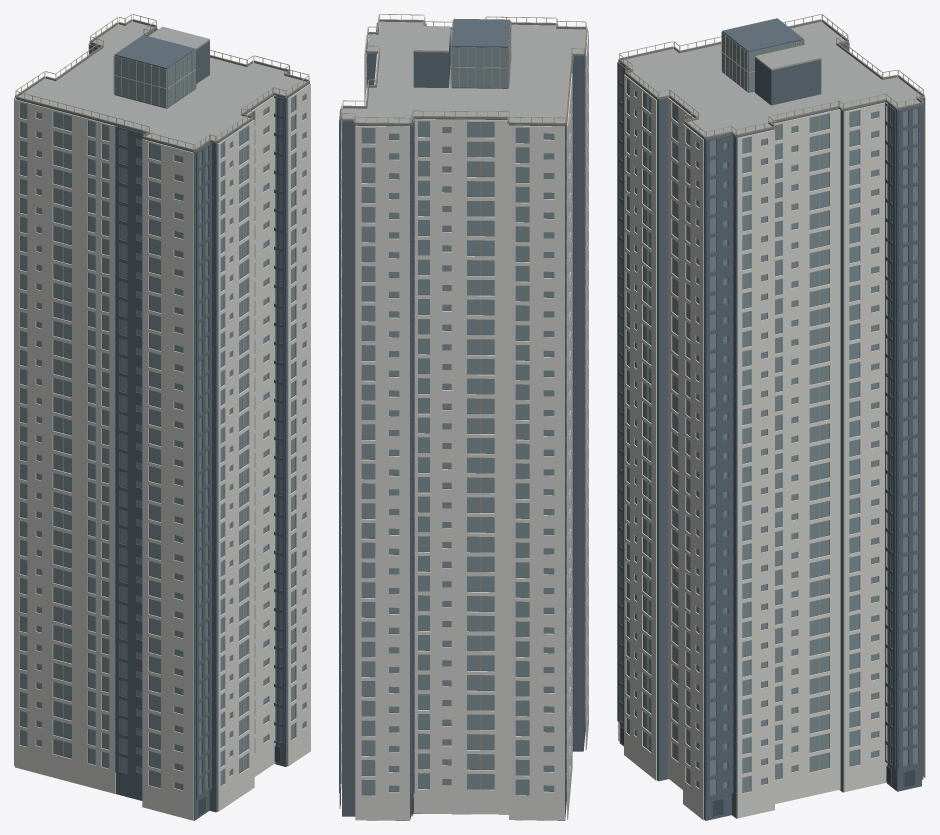
The model's file is bespoke-raemian-onebailey-104.glb.
3 renders of one model, left to right at view 1: azimuth 30°, elevation 25°; view 2: azimuth 150°, elevation 25°; view 3: azimuth 270°, elevation 25°, orthographic. The views are drawn at different scales.
Visible parts, largest first — view 1: 104_pale_bays_navy_shafts005_4, 104_pale_bays_navy_shafts005, 104_editable_massing, 104_glass_roof_crown005_3, 104_pale_bays_navy_shafts005_2, 104_glass_roof_crown005; view 2: 104_pale_bays_navy_shafts005_4, 104_pale_bays_navy_shafts005, 104_editable_massing, 104_glass_roof_crown005_3, 104_pale_bays_navy_shafts005_2, 104_glass_roof_crown005; view 3: 104_pale_bays_navy_shafts005_4, 104_editable_massing, 104_pale_bays_navy_shafts005, 104_glass_roof_crown005_3, 104_pale_bays_navy_shafts005_2, 104_glass_roof_crown005, 104_pale_bays_navy_shafts005_1.
Boxes of the visible parts, x1,y1,x2,y2 form: 104_pale_bays_navy_shafts005_4: (14,25,310,820); 104_pale_bays_navy_shafts005: (20,48,304,793); 104_editable_massing: (16,22,309,820); 104_glass_roof_crown005_3: (18,21,306,151); 104_pale_bays_navy_shafts005_2: (15,14,309,770); 104_glass_roof_crown005: (15,19,309,151); 104_pale_bays_navy_shafts005_4: (355,21,588,820); 104_pale_bays_navy_shafts005: (341,20,586,795); 104_editable_massing: (339,18,585,820); 104_glass_roof_crown005_3: (342,22,585,125); 104_pale_bays_navy_shafts005_2: (341,14,586,789); 104_glass_roof_crown005: (340,19,587,125); 104_pale_bays_navy_shafts005_4: (618,25,925,819); 104_editable_massing: (617,18,923,820); 104_pale_bays_navy_shafts005: (621,32,917,795); 104_glass_roof_crown005_3: (621,21,920,139); 104_pale_bays_navy_shafts005_2: (619,14,923,769); 104_glass_roof_crown005: (618,19,924,139); 104_pale_bays_navy_shafts005_1: (621,726,914,816).
Bounding box in the file's own units: 38.65 × 110 × 42.32.
